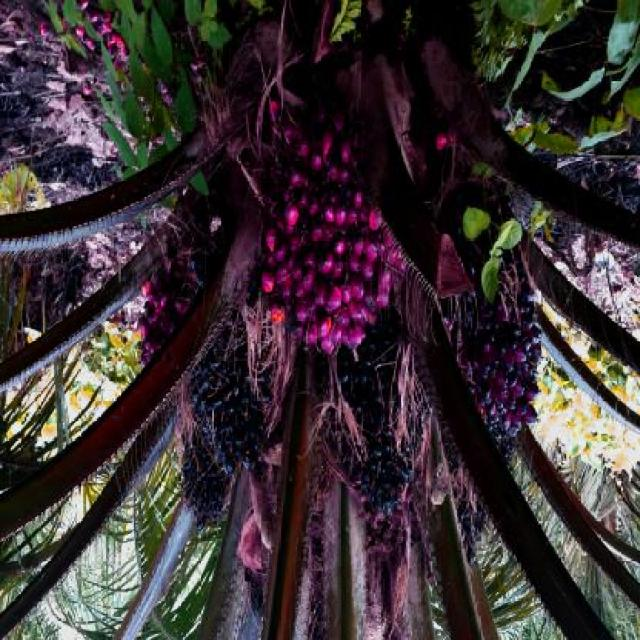palm-oil: (268, 134, 404, 335), (318, 334, 446, 506), (439, 257, 550, 445), (124, 242, 216, 384), (176, 345, 266, 465)
